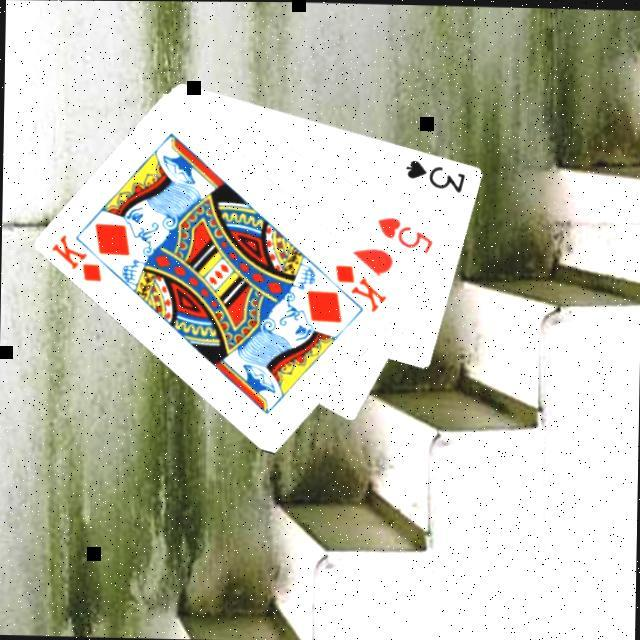3S: (404, 157, 471, 196)
5H: (376, 214, 439, 258)
KD: (48, 232, 108, 287), (332, 262, 392, 316)
